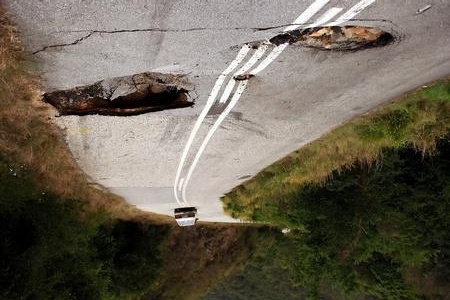pothole: (38, 70, 198, 122), (268, 22, 402, 56), (229, 72, 258, 84)
